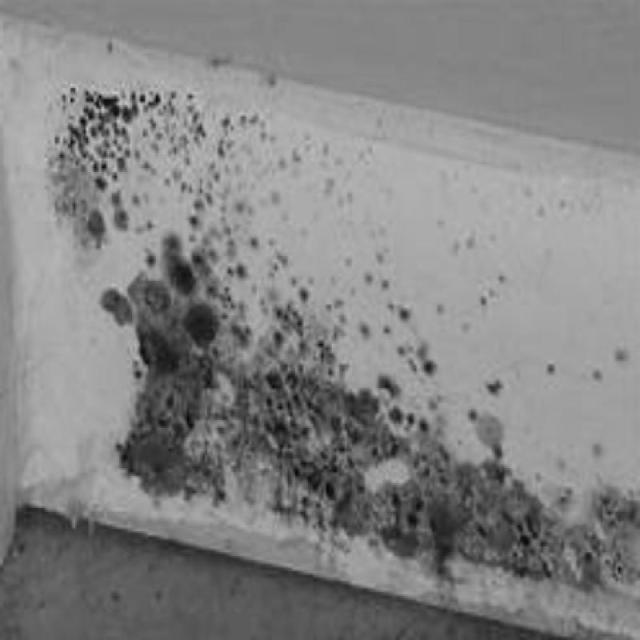stain marks: (41, 83, 640, 619)
